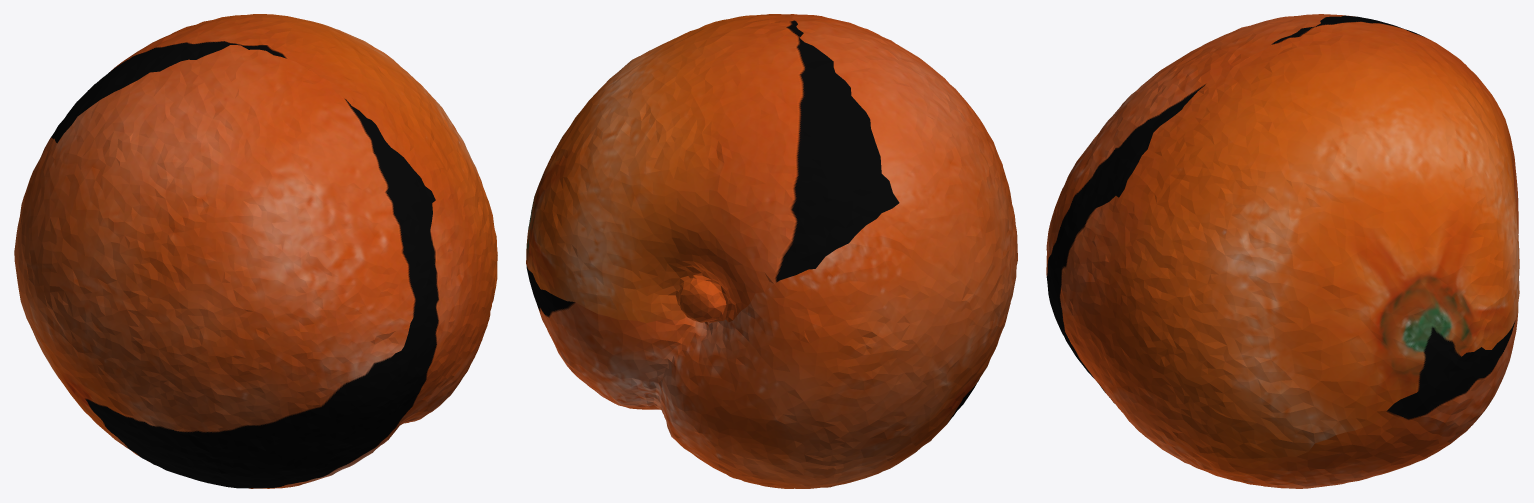
3 renders of one model, left to right at view 1: azimuth 30°, elevation 25°; view 2: azimuth 150°, elevation 25°; view 3: azimuth 270°, elevation 25°, orthographic. The views are drawn at different scales.
Parts seen in each view (by area): view 1: node; view 2: node; view 3: node.
Part boxes in pixels (x1=…): node: x1=14, y1=14, x2=497, y2=488; node: x1=526, y1=14, x2=1017, y2=488; node: x1=1046, y1=14, x2=1519, y2=488.
Bounding box in the file's own units: 0.0572 × 0.0549 × 0.053.
